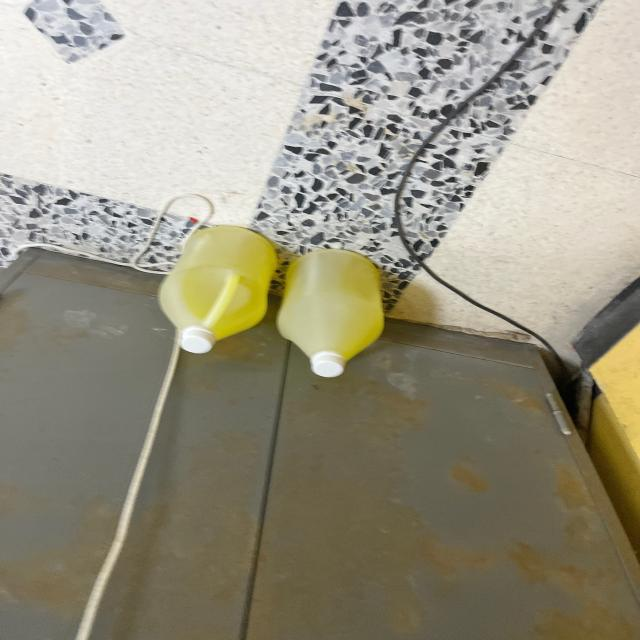HDPE Plastic: (152, 220, 278, 359), (279, 239, 389, 378)
